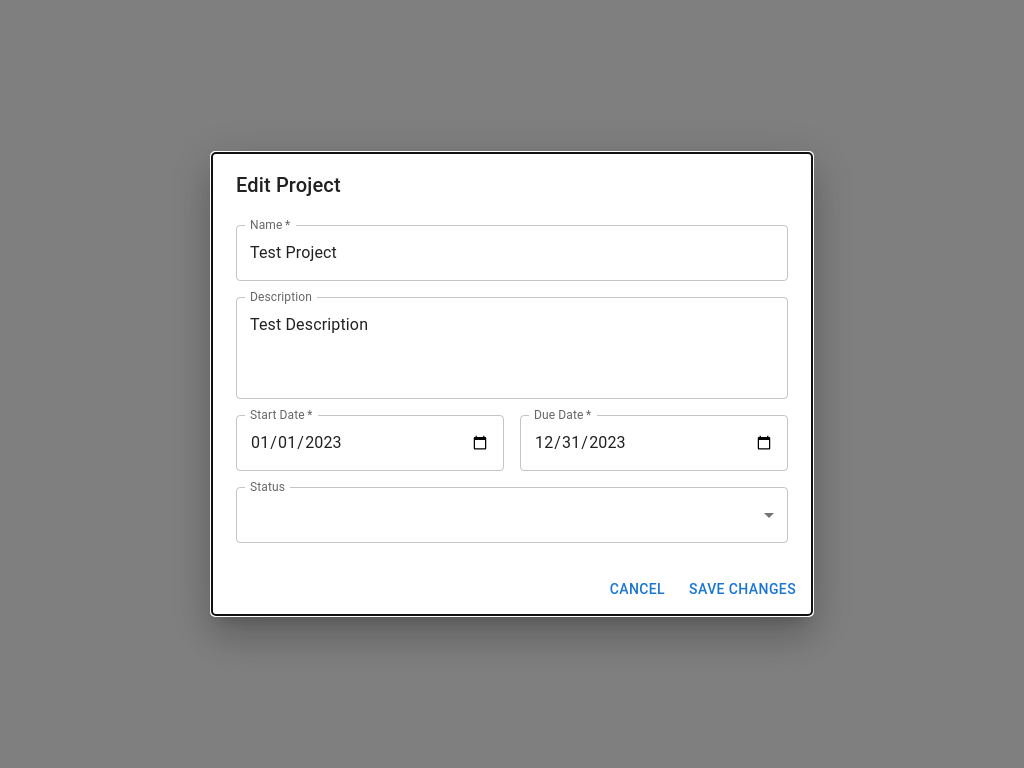
Test: ProjectEditDialog › shows error message when update fails
Click the button "Save Changes" at x=743, y=589, box [681, 571, 804, 607]
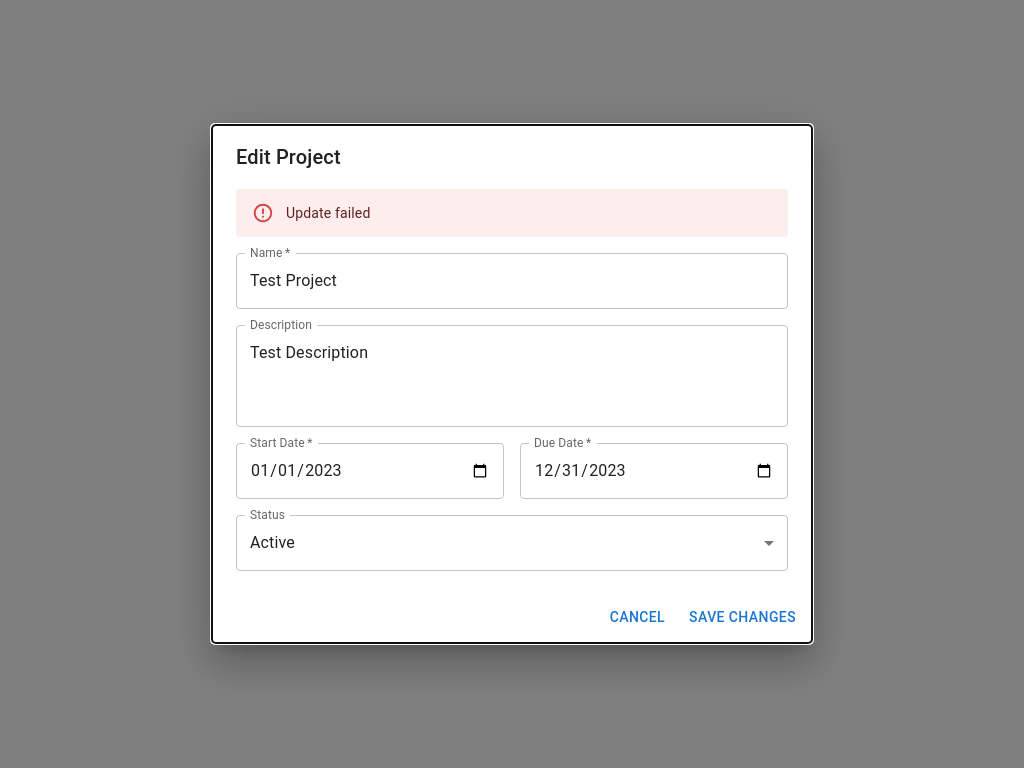
Result: the text "Update failed" is shown at [286, 205, 370, 221]
